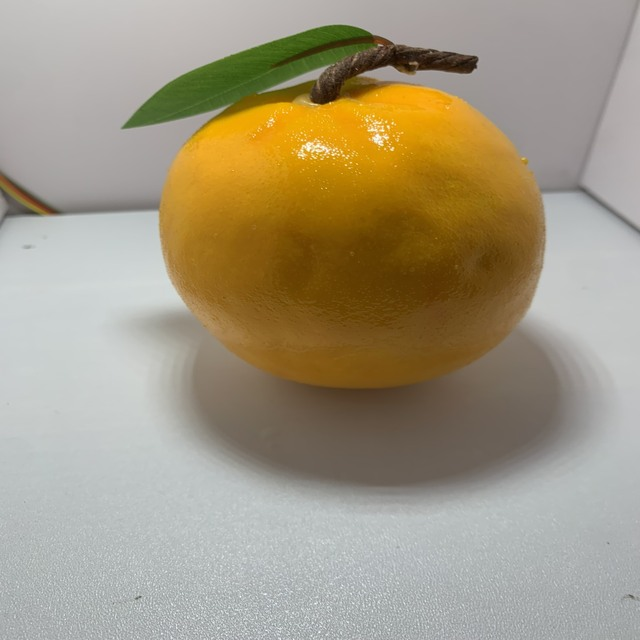Cam vang: (158, 32, 551, 395)
